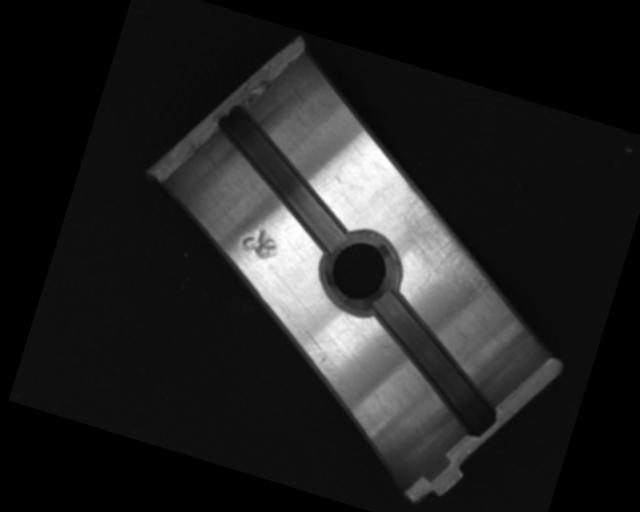bruise: (237, 220, 285, 264)
gap: (193, 101, 372, 255), (346, 286, 523, 437)
hole: (308, 220, 409, 323)
scratch: (375, 178, 521, 306)
